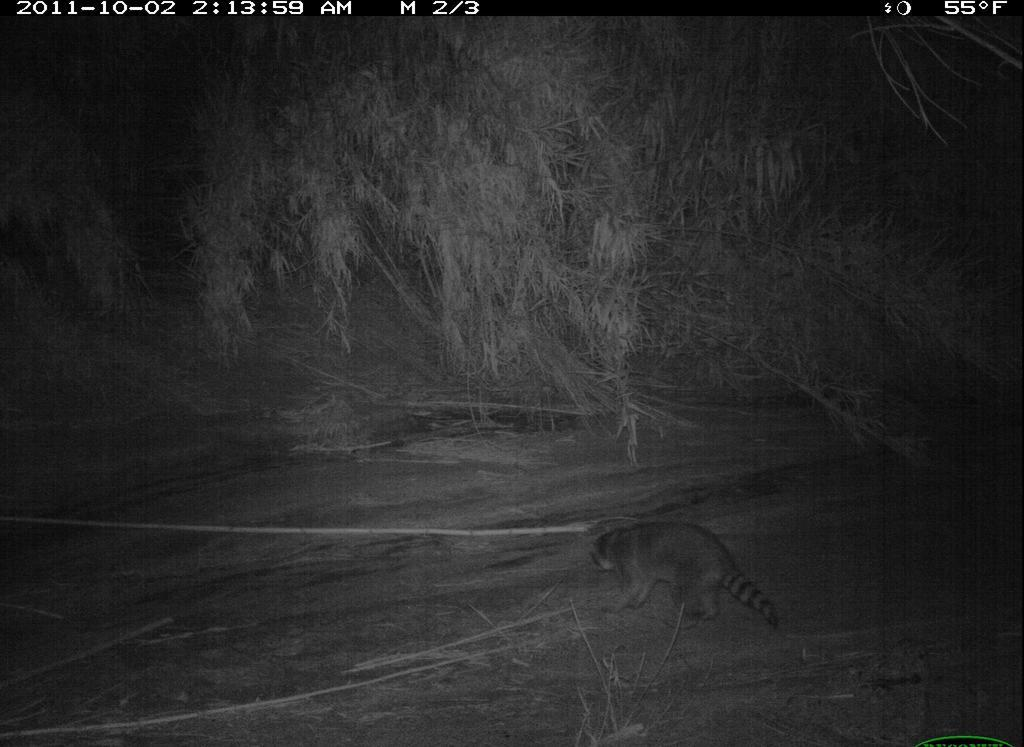raccoon: (571, 513, 790, 646)
